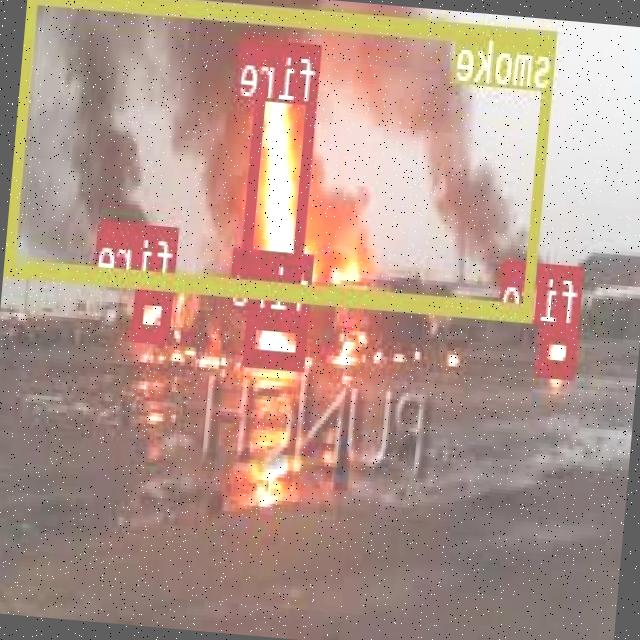fire: (240, 38, 324, 291), (247, 308, 309, 368), (134, 284, 176, 338), (539, 321, 580, 374)
smoke: (7, 0, 558, 316)
